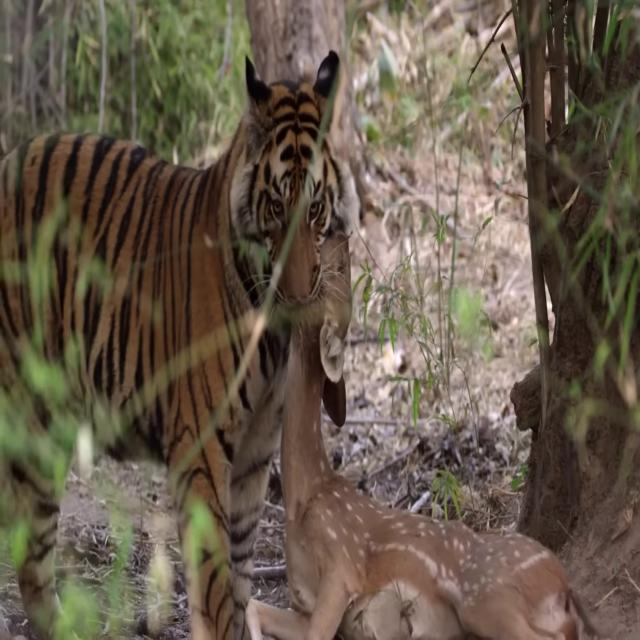tiger: (0, 43, 364, 640)
